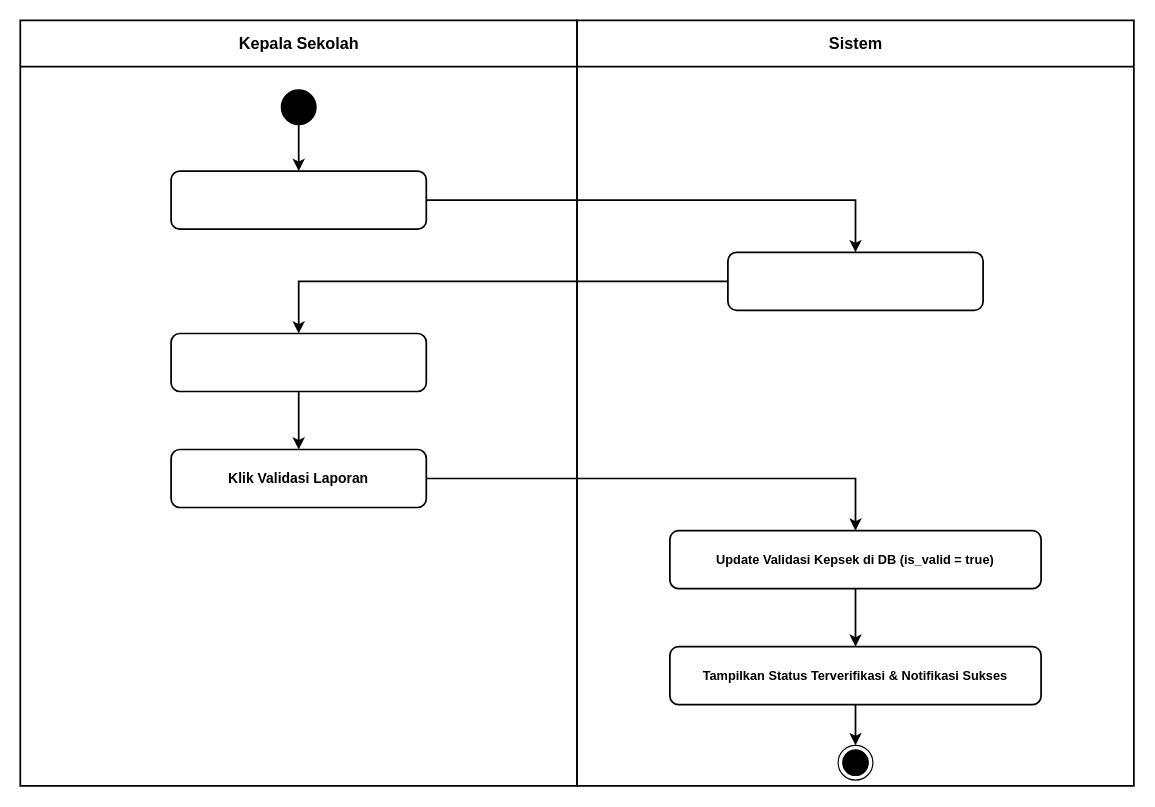
Image size: 1155x807. Some labels were removed from this diagram. Each missing label, with the centre of its shape:
"Pilih Menu Laporan Keuangan" belongs at point (298, 199).
"Review Detail & Rekap Laporan" belongs at point (298, 362).
"Tampilkan Laporan Keuangan" belongs at point (855, 281).
